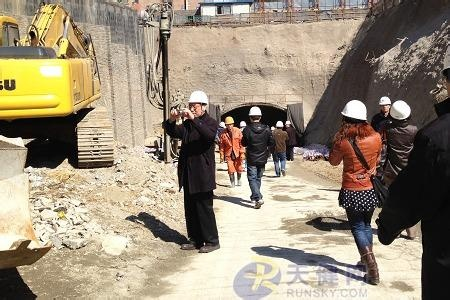white: (340, 99, 368, 129), (388, 98, 413, 127), (187, 89, 209, 117), (248, 103, 263, 123), (377, 94, 391, 113), (274, 119, 285, 130)
yellow: (223, 114, 235, 131)
